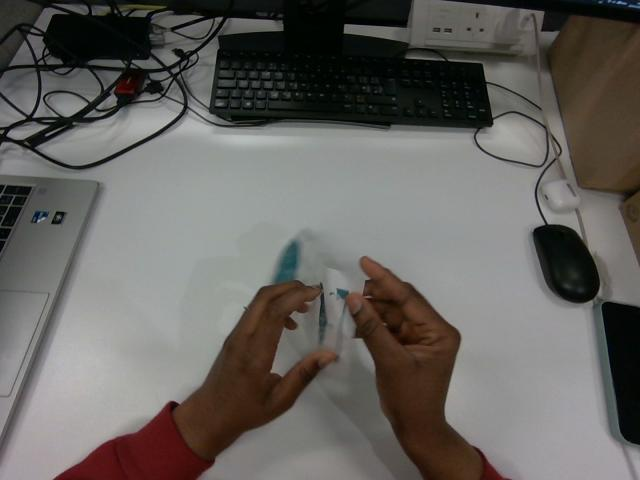gallipot: (273, 231, 363, 360)
